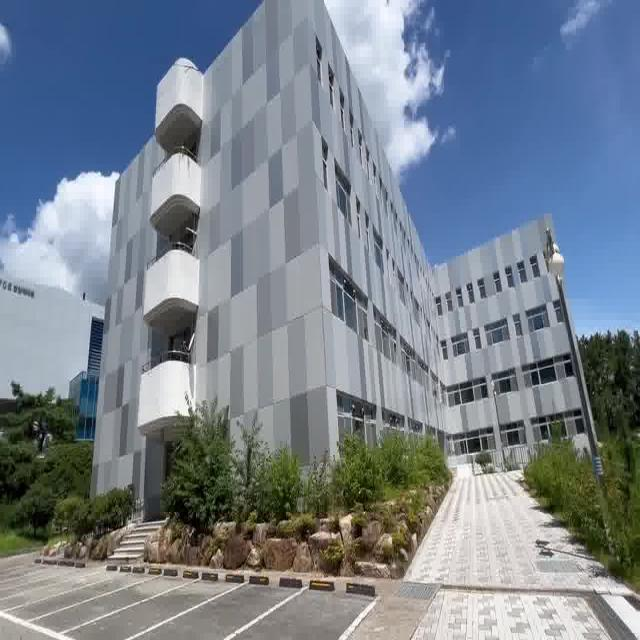building: (100, 18, 570, 449)
